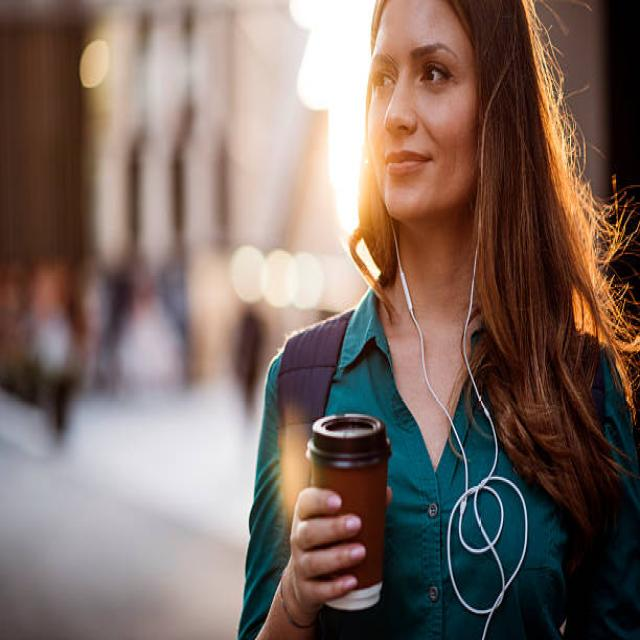cup: (304, 416, 390, 614)
